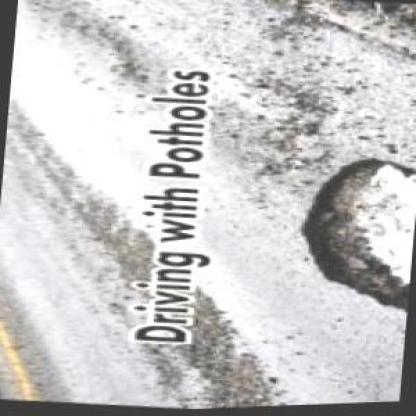pothole: (286, 151, 414, 320)
